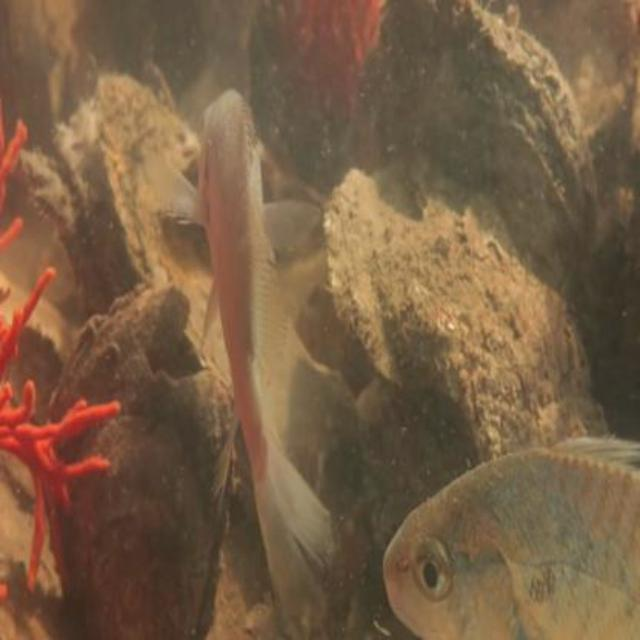Oyster-Closed: (325, 174, 601, 456), (388, 0, 599, 259), (47, 367, 234, 640), (98, 67, 216, 345), (43, 273, 187, 439)
